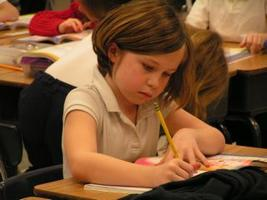person: (62, 3, 226, 188)
